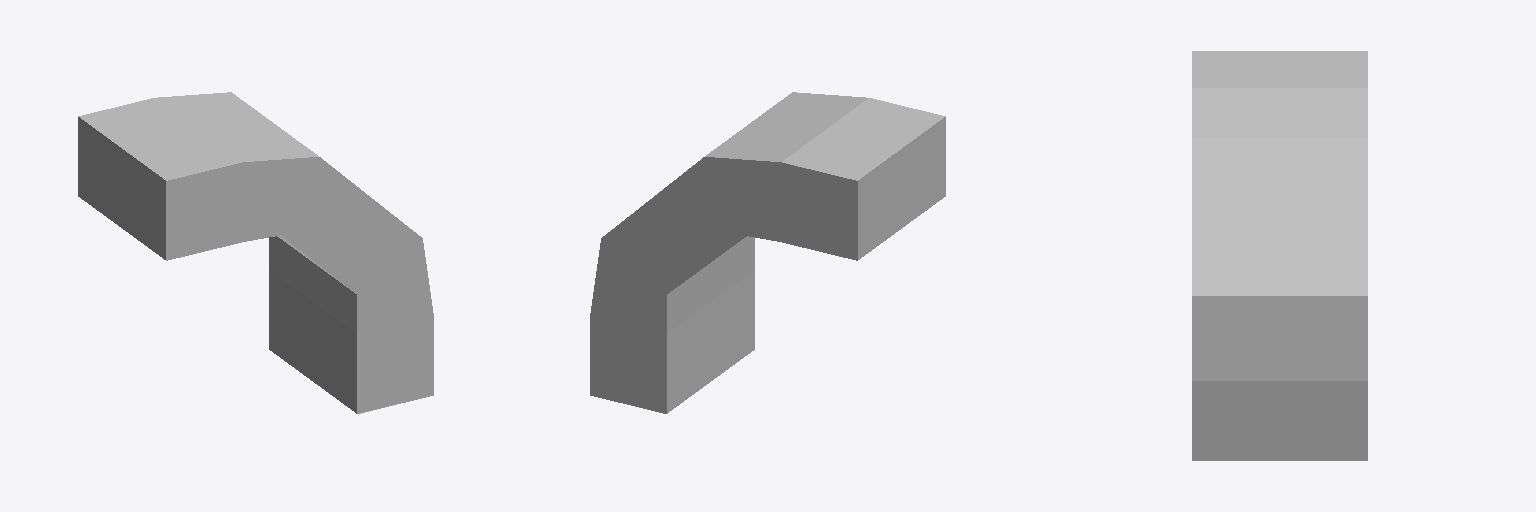
The model's file is buttress.obj.
3 views of the same model, side by side, from view 1: azimuth 30°, elevation 25°; view 2: azimuth 150°, elevation 25°; view 3: azimuth 270°, elevation 25° (orthographic).
Visible parts, largest first — view 1: Cube; view 2: Cube; view 3: Cube.
Part boxes in pixels (left/top/right/bottom): Cube: left=78, top=92, right=433, bottom=413; Cube: left=590, top=92, right=945, bottom=413; Cube: left=1192, top=51, right=1367, bottom=460.
Bounding box in the file's own units: 1.75 × 1.75 × 1.